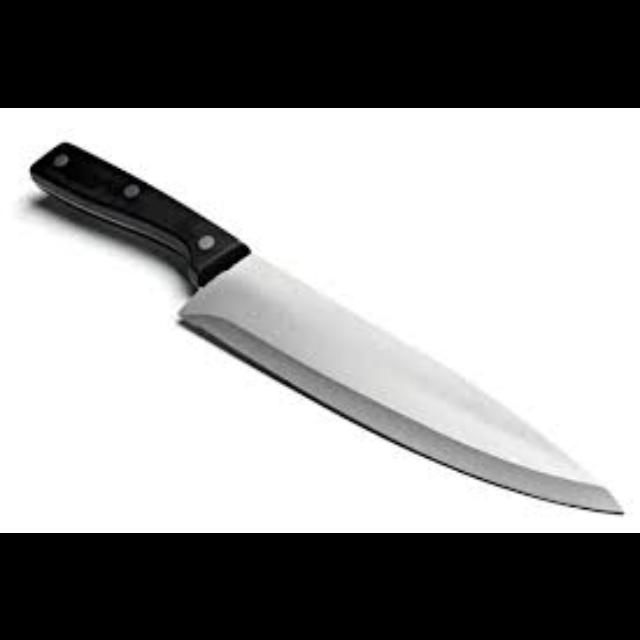knife: (29, 138, 624, 514)
